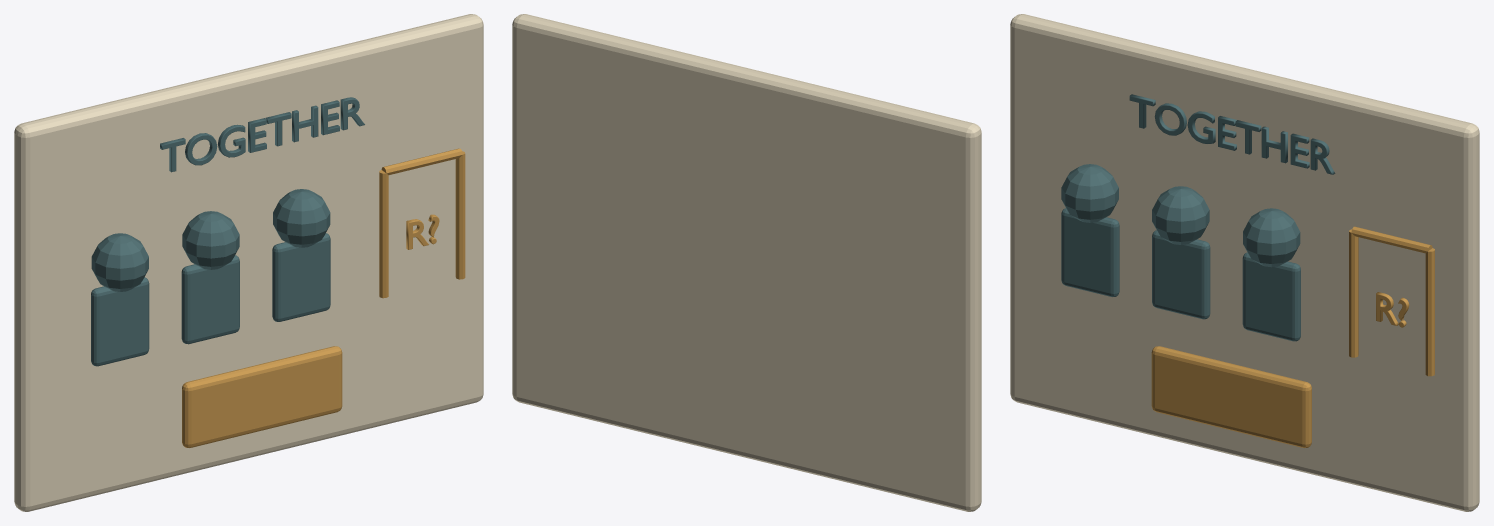
Rendered from event-sketch-gathering-v1-DDyV6aHs.glb.
3 renders of one model, left to right at view 1: azimuth 30°, elevation 25°; view 2: azimuth 150°, elevation 25°; view 3: azimuth 330°, elevation 25°, orthographic.
Parts seen in each view (by area): view 1: Sketch paper, Pot stage, Guest body 3, Guest body 2, Guest body 1, Sketch heading, Guest head 3, Guest head 2, Guest head 1, Empty place right, Empty place left, Empty place top (+1 smaller); view 2: Sketch paper; view 3: Sketch paper, Pot stage, Guest body 1, Guest body 2, Guest body 3, Sketch heading, Guest head 1, Guest head 2, Guest head 3, Empty place right, Empty place left, Empty place top (+1 smaller).
Boxes of the visible parts, x1=… form: Sketch paper: x1=14, y1=14, x2=483, y2=511; Pot stage: x1=182, y1=346, x2=342, y2=447; Guest body 3: x1=272, y1=233, x2=330, y2=321; Guest body 2: x1=181, y1=255, x2=239, y2=344; Guest body 1: x1=91, y1=277, x2=149, y2=366; Sketch heading: x1=160, y1=97, x2=364, y2=172; Guest head 3: x1=273, y1=189, x2=330, y2=247; Guest head 2: x1=182, y1=211, x2=239, y2=269; Guest head 1: x1=91, y1=233, x2=148, y2=291; Empty place right: x1=455, y1=151, x2=465, y2=279; Empty place left: x1=379, y1=170, x2=388, y2=298; Empty place top: x1=381, y1=148, x2=462, y2=174; Sketch paper: x1=512, y1=14, x2=981, y2=511; Sketch paper: x1=1010, y1=14, x2=1479, y2=511; Pot stage: x1=1151, y1=346, x2=1311, y2=447; Guest body 1: x1=1061, y1=208, x2=1119, y2=296; Guest body 2: x1=1152, y1=230, x2=1210, y2=319; Guest body 3: x1=1242, y1=252, x2=1300, y2=341; Sketch heading: x1=1129, y1=94, x2=1335, y2=174; Guest head 1: x1=1061, y1=164, x2=1118, y2=222; Guest head 2: x1=1152, y1=186, x2=1209, y2=244; Guest head 3: x1=1243, y1=208, x2=1300, y2=267; Empty place right: x1=1425, y1=248, x2=1434, y2=376; Empty place left: x1=1349, y1=229, x2=1358, y2=357; Empty place top: x1=1351, y1=226, x2=1432, y2=253.
Bounding box in the file's own units: 1.64 × 1.3 × 0.2027.
